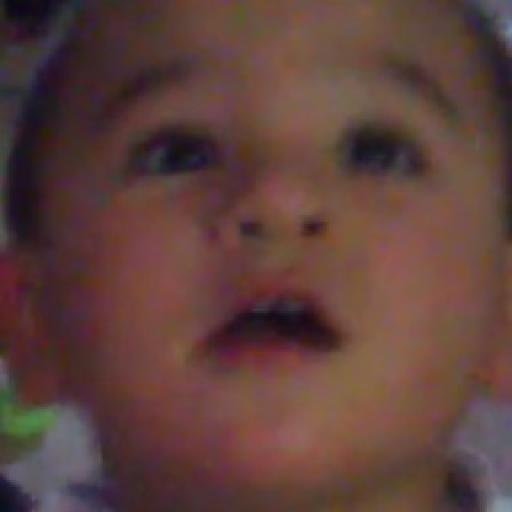Autism: (80, 0, 512, 504), (42, 26, 480, 460)
